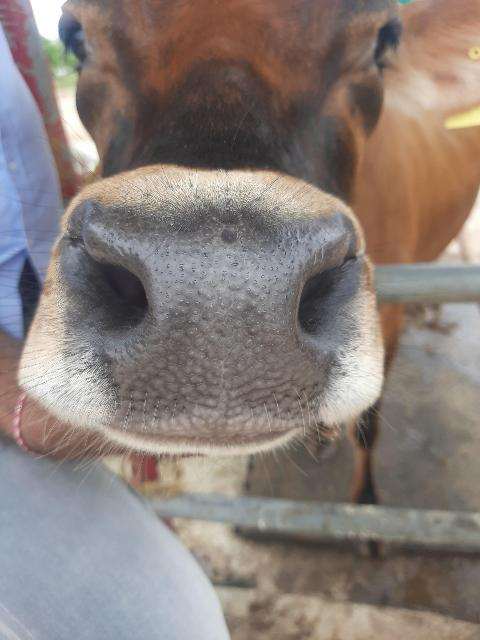Muzzle: (63, 203, 357, 444)
